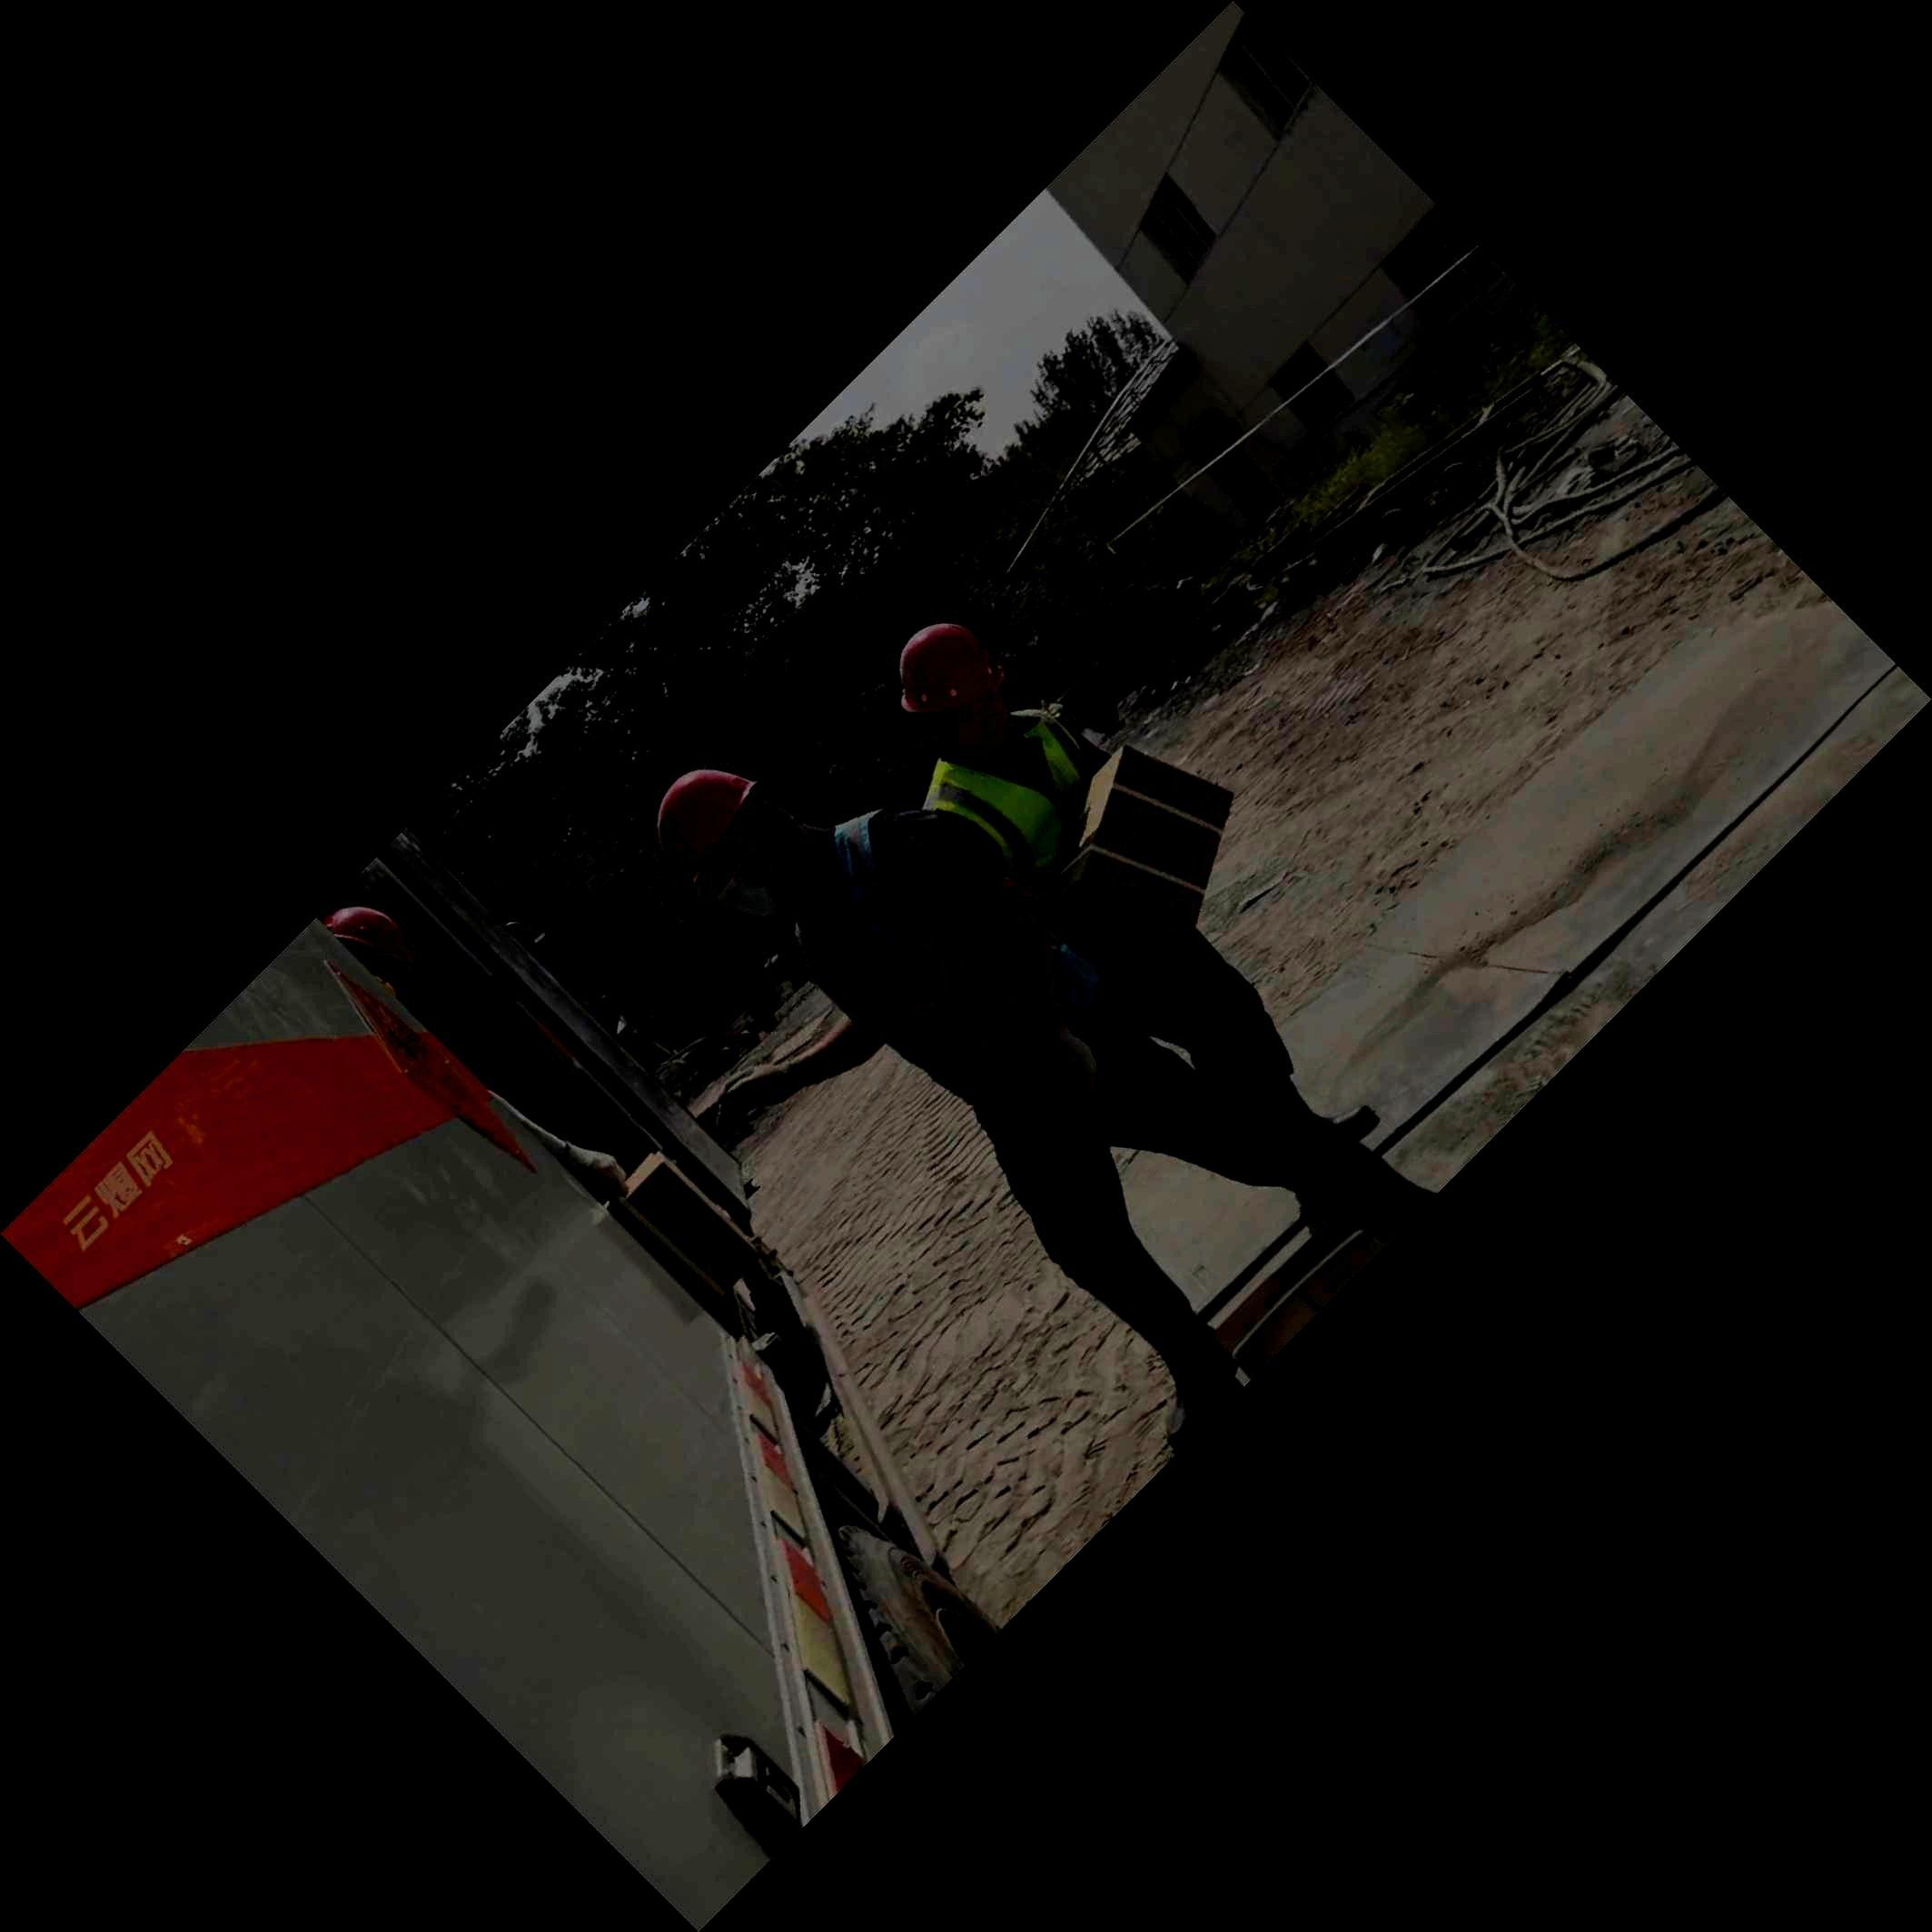helmet: (656, 770, 803, 918), (899, 623, 1010, 754), (322, 906, 421, 1003)
